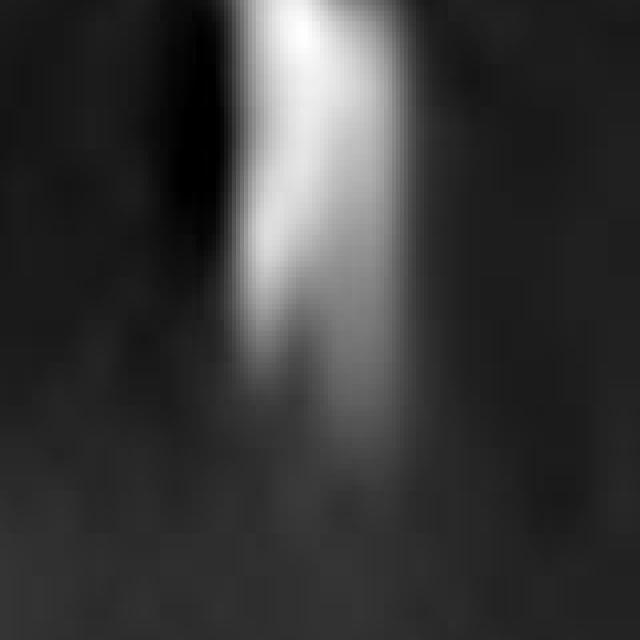person: (181, 1, 449, 497)
